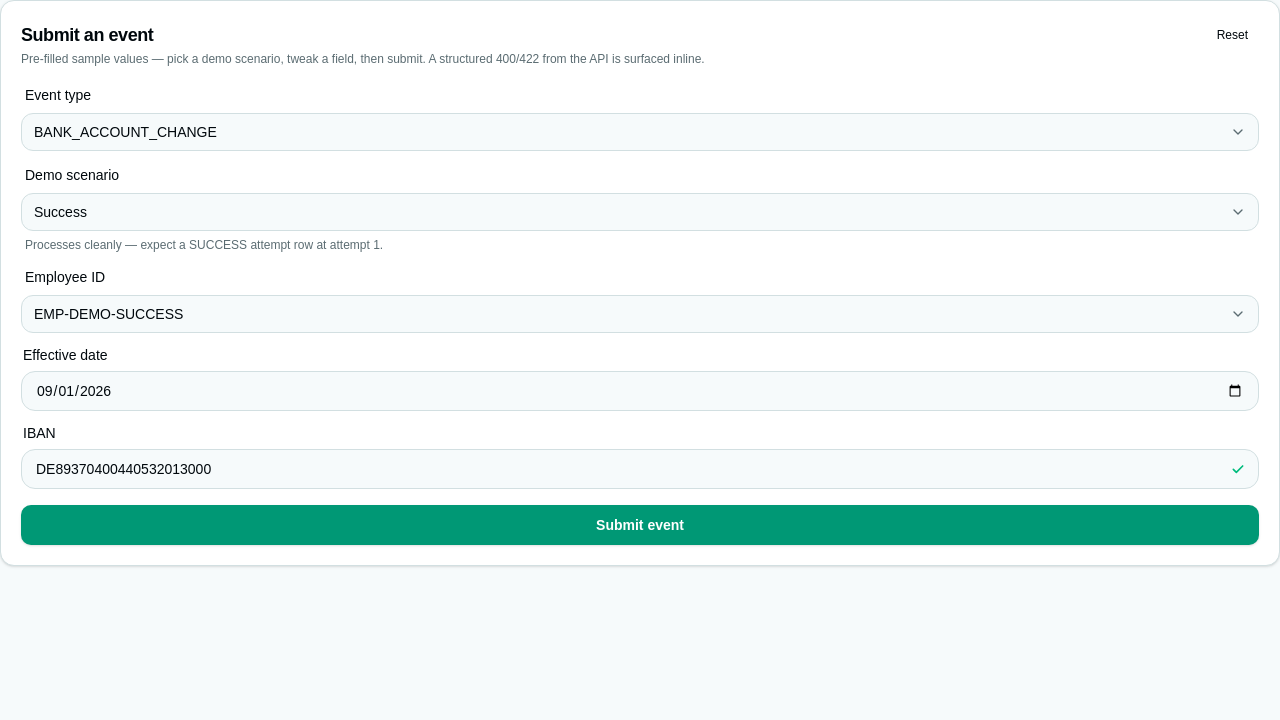
Scenario: SubmitForm › blocks a submit with a cleared required field and sends no request
Clear the date field labelled "Effective date": (640, 391) [22, 372, 1258, 410]
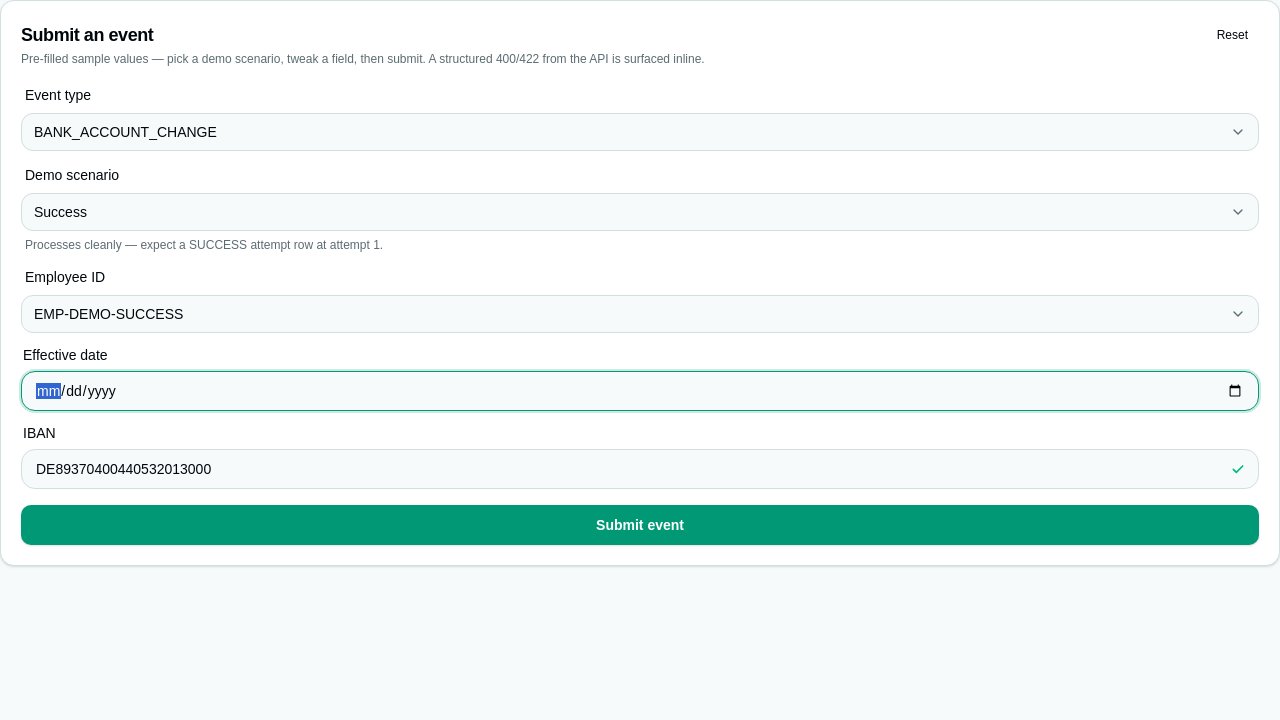
Click the button "Submit event": (640, 525) [21, 505, 1259, 545]
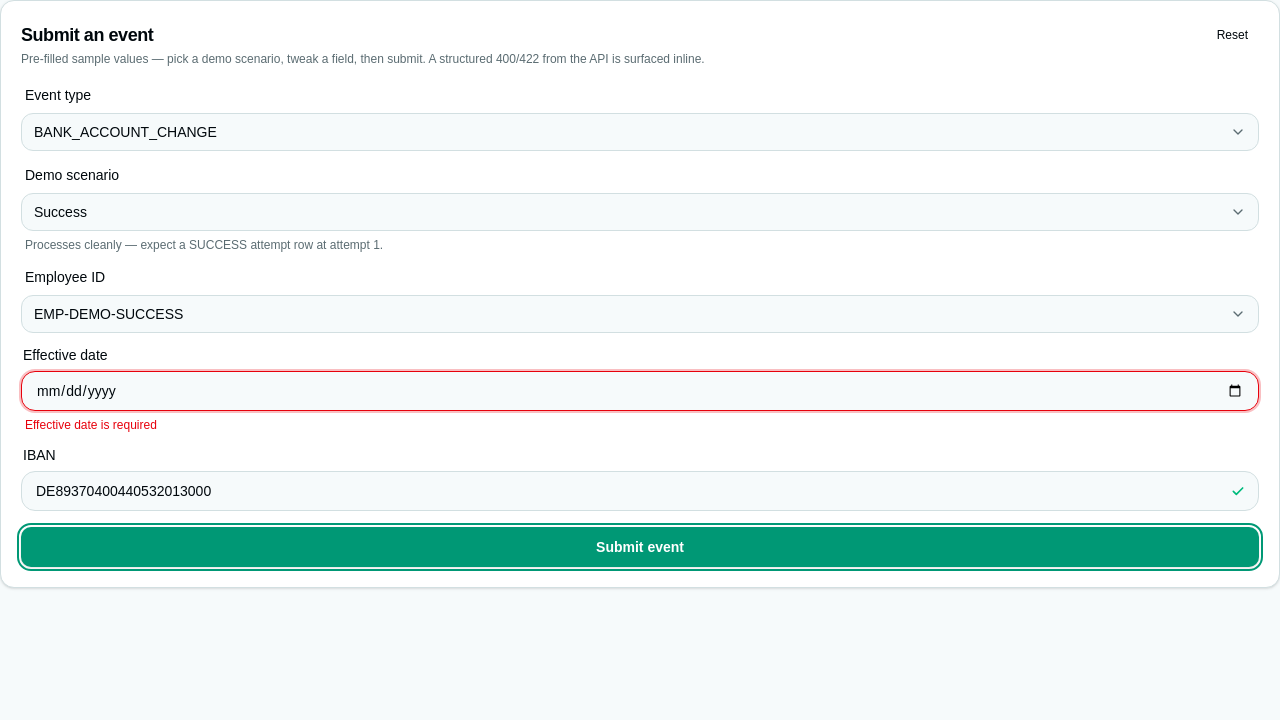
Expected: the text "Effective date is required" is shown, [25, 418, 157, 432]
